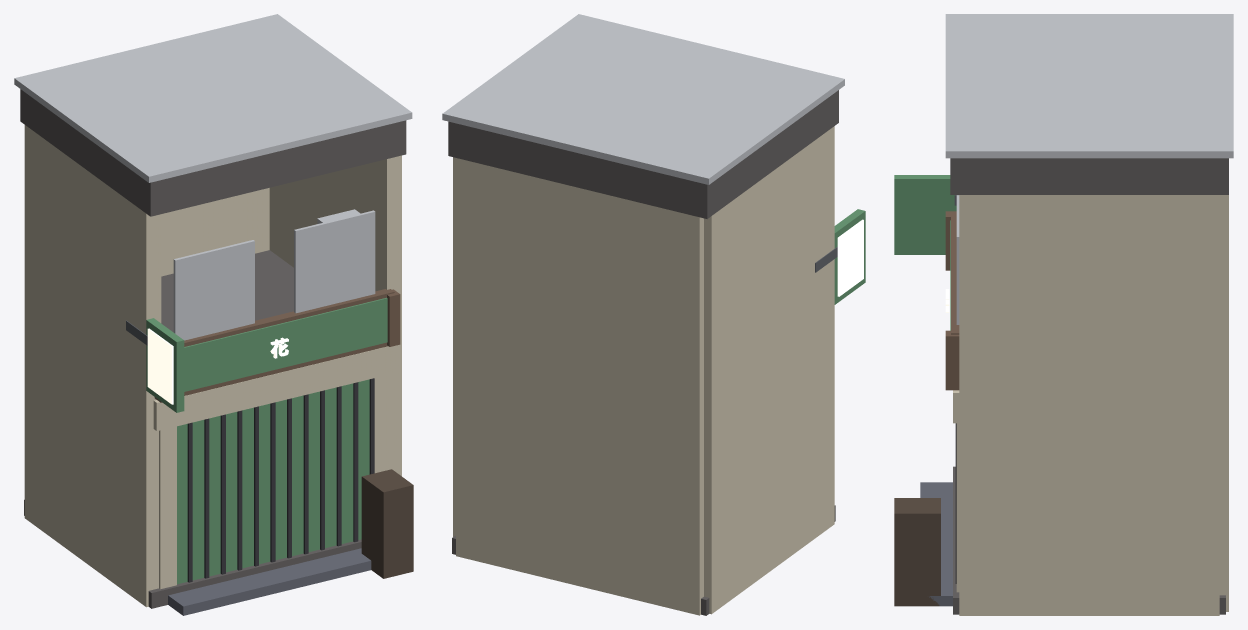
Rendered from prop_shop_hanaya_closed.glb.
3 views of the same model, side by side, from view 1: azimuth 30°, elevation 25°; view 2: azimuth 150°, elevation 25°; view 3: azimuth 270°, elevation 25° (orthographic). The views are drawn at different scales.
Parts seen in each view (by area): view 1: shop_hanaya_closed; view 2: shop_hanaya_closed; view 3: shop_hanaya_closed.
Part boxes in pixels (box(x1,y1,x2,y2)): shop_hanaya_closed: box(14, 14, 413, 615); shop_hanaya_closed: box(442, 14, 865, 615); shop_hanaya_closed: box(894, 14, 1233, 615).
Size of the model in its own units: 3.5 by 5.54 by 3.65.
